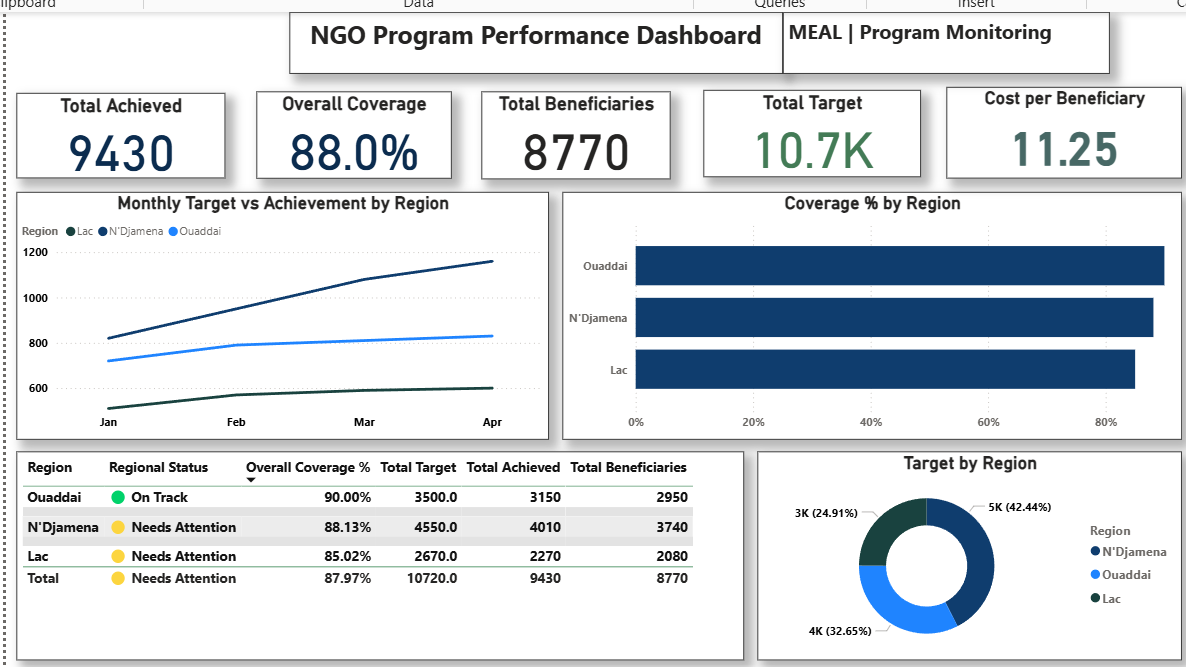

What the dashboard file says about the page in this screenshot:
{"tool":"powerbi","page":{"name":"Page 1","canvas":[1280,720],"ordinal":0},"visuals":[{"type":"card","title":"Total Target","fields":{"Values":["data.Total Target"]},"box":[752.9,84.2,234.8,93.9],"z":0},{"type":"card","title":"Total Achieved","fields":{"Values":["data.Total Achieved"]},"box":[11.3,87.4,225.1,92.3],"z":1000},{"type":"card","title":"Overall Coverage","fields":{"Values":["data.Overall Coverage %"]},"box":[270.4,85.8,210.5,93.9],"z":2000},{"type":"card","title":"Total Beneficiaries","fields":{"Values":["data.Total Beneficiaries"]},"box":[514,85,204.1,94.5],"z":3000},{"type":"lineChart","title":"Monthly Target vs Achievement by Region","fields":{"Category":["data.Month"],"Series":["data.Region"],"Y":["Sum(data.Achieved)"]},"box":[11.3,194.3,574.8,267.2],"z":4000},{"type":"barChart","title":"Coverage % by Region","fields":{"Category":["data.Region"],"Y":["data.Overall Coverage %"]},"box":[600.7,194.3,668.7,267.2],"z":5000},{"type":"tableEx","fields":{"Values":["data.Region","data.Regional Status","data.Overall Coverage %","data.Total Target","data.Total Achieved","data.Total Beneficiaries"]},"box":[11.3,474.4,785.3,225.1],"z":6000},{"type":"card","title":"Cost per Beneficiary","fields":{"Values":["data.Cost per Beneficiary"]},"box":[1015.3,81,254.2,98.8],"z":7000},{"type":"textbox","box":[306,0,532.7,66.4],"z":8000},{"type":"donutChart","title":"Target by Region","fields":{"Category":["data.Region"],"Y":["Sum(data.Target)"]},"box":[811.2,474.4,458.2,225.1],"z":9000},{"type":"textbox","box":[838.8,0,353,66.4],"z":10000}]}

Visuals, with their boxes on the page's 1280x720 design canvas (x1, y1, x2, y2). These are canvas units, not pixel positions in the 1186x667 screenshot, which may show the page scaled, cropped or inside an application window:
"Total Target" card: (753, 84, 988, 178)
"Total Achieved" card: (11, 87, 236, 180)
"Overall Coverage" card: (270, 86, 481, 180)
"Total Beneficiaries" card: (514, 85, 718, 180)
"Monthly Target vs Achievement by Region" lineChart: (11, 194, 586, 462)
"Coverage % by Region" barChart: (601, 194, 1269, 462)
tableEx - data.Region x data.Regional Status: (11, 474, 797, 700)
"Cost per Beneficiary" card: (1015, 81, 1270, 180)
textbox: (306, 0, 839, 66)
"Target by Region" donutChart: (811, 474, 1269, 700)
textbox: (839, 0, 1192, 66)
